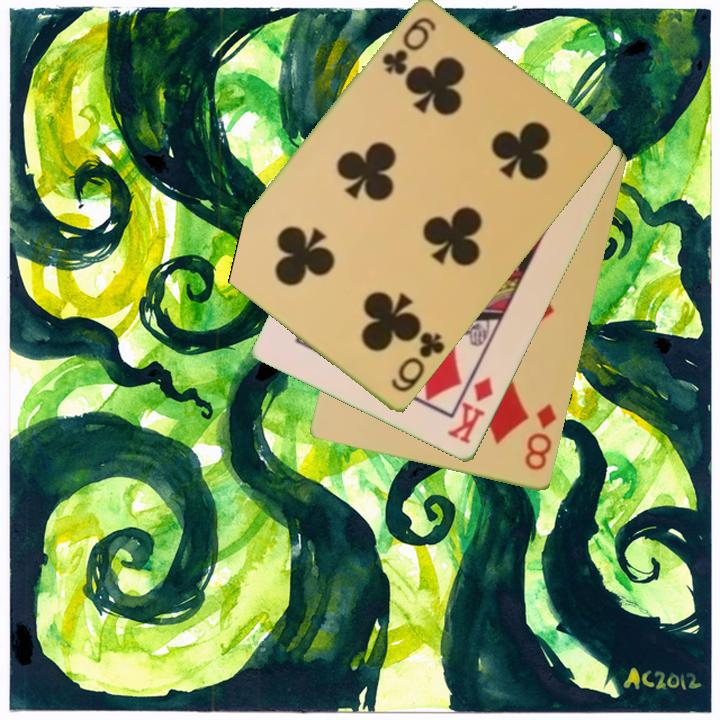6c: (388, 328, 448, 396), (378, 13, 439, 79)
8d: (521, 400, 560, 474)
Kd: (443, 373, 497, 448)
